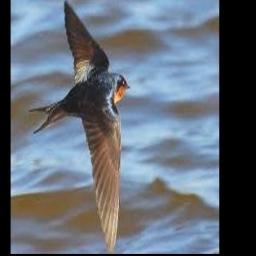Swallow: (29, 0, 130, 253)
